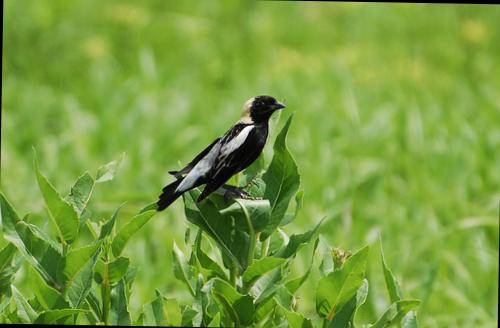bird: (149, 87, 294, 226)
